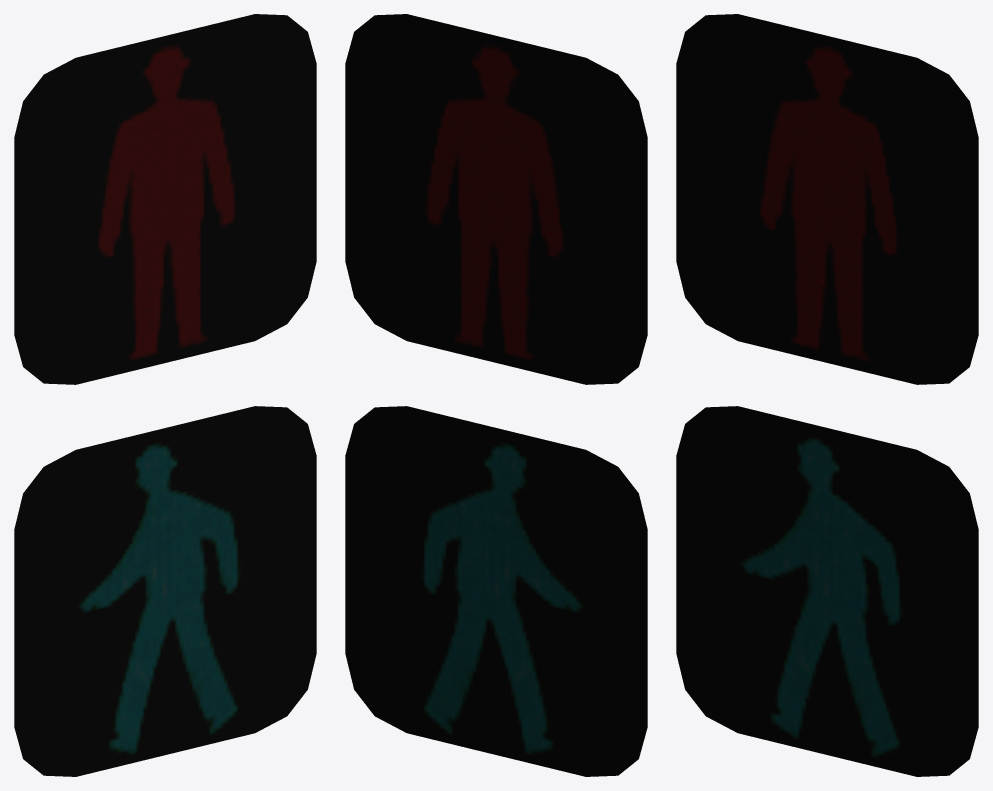
The model's file is WalkersSignal_Emission.fbx.
3 views of the same model, side by side, from view 1: azimuth 30°, elevation 25°; view 2: azimuth 150°, elevation 25°; view 3: azimuth 330°, elevation 25° (orthographic).
Visible parts, largest first — view 1: Red, Blue; view 2: Red, Blue; view 3: Red, Blue.
Boxes of the visible parts, <box> form: Red: <box>14,14,316,384</box>; Blue: <box>14,406,316,776</box>; Red: <box>345,14,647,384</box>; Blue: <box>345,406,647,776</box>; Red: <box>676,14,978,384</box>; Blue: <box>676,406,978,776</box>.
Size of the model in its own units: 0.2301 by 0.5234 by 0.
